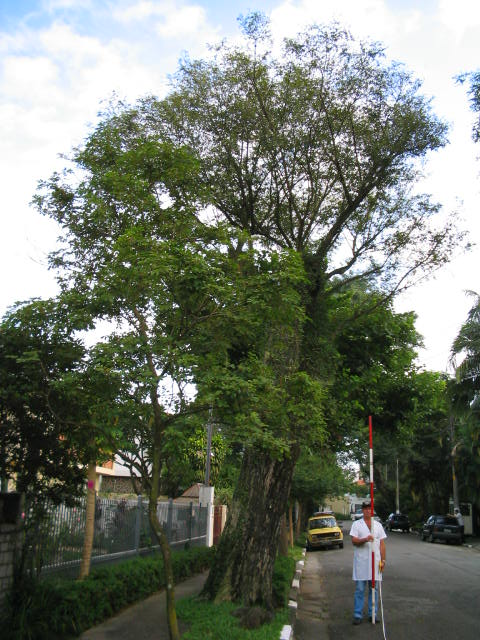crown: (34, 14, 472, 437)
stem: (185, 450, 309, 608)
stick: (363, 414, 383, 624)
tree: (30, 9, 474, 611)
